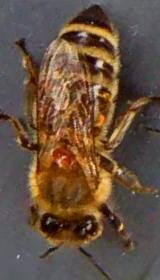varroa_mite: (47, 145, 77, 176)
